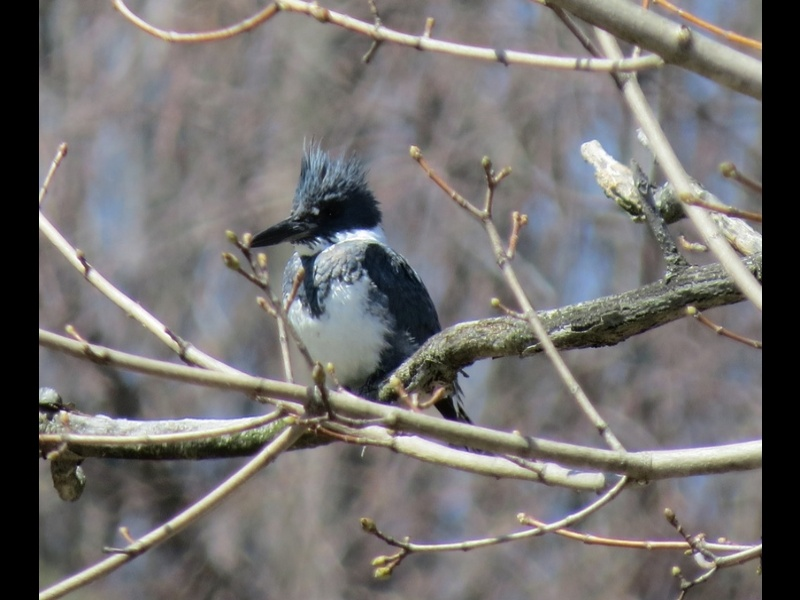kingfisher: (249, 135, 474, 439)
